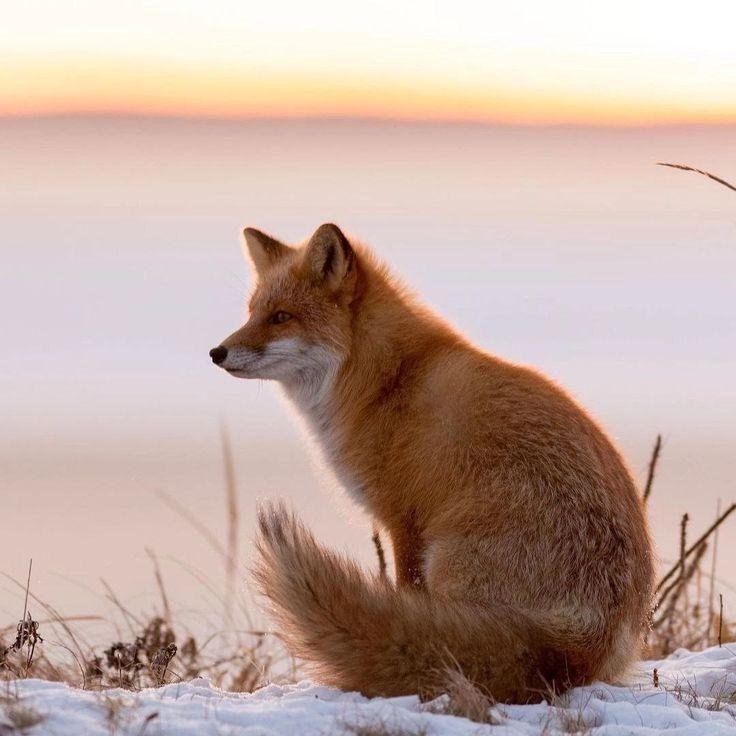fox: (207, 217, 667, 701)
